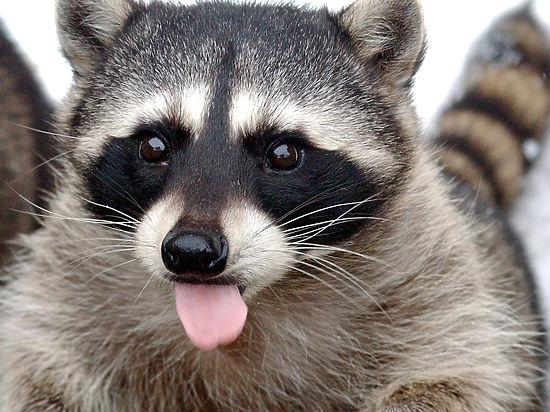raccoon: (4, 0, 550, 412)
